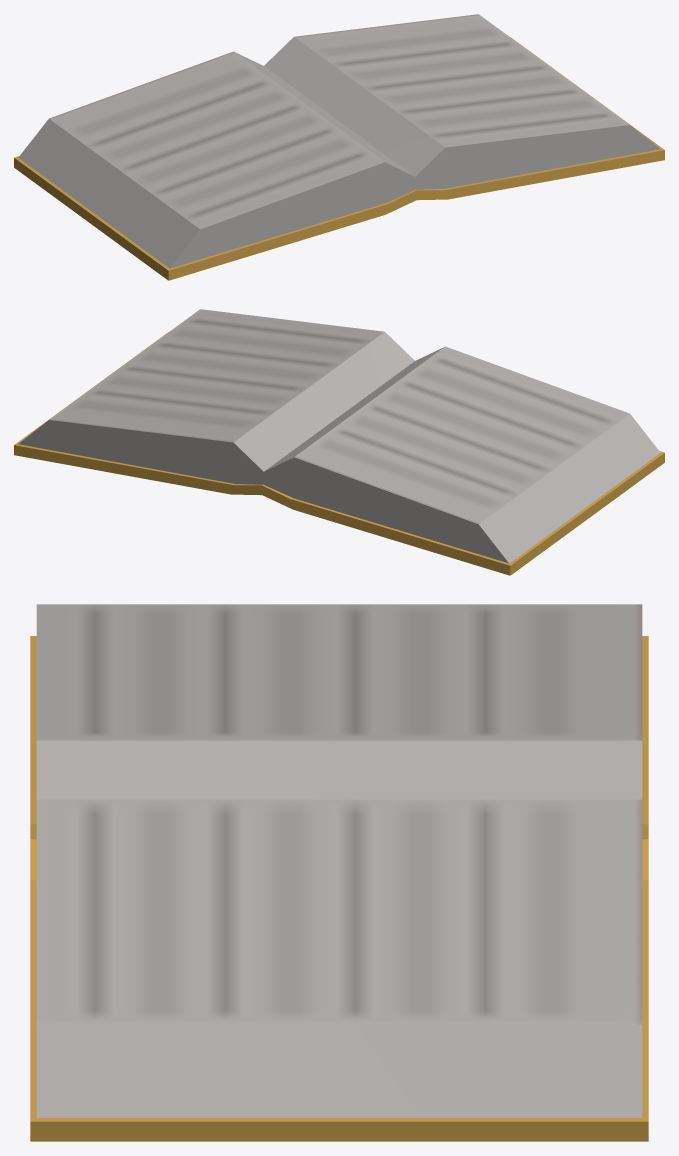
File: SM_Prop_Book_Open_01.fbx
3 views of the same model, one above another, from view 1: azimuth 30°, elevation 25°; view 2: azimuth 150°, elevation 25°; view 3: azimuth 270°, elevation 25° (orthographic). The views are drawn at different scales.
Parts seen in each view (by area): view 1: SM_Prop_Book_Open_01; view 2: SM_Prop_Book_Open_01; view 3: SM_Prop_Book_Open_01.
Part boxes in pixels (left/top/right/bottom): SM_Prop_Book_Open_01: left=14, top=14, right=664, bottom=280; SM_Prop_Book_Open_01: left=14, top=309, right=664, bottom=575; SM_Prop_Book_Open_01: left=30, top=604, right=648, bottom=1141.
Bounding box in the file's own units: 50.14 × 6.24 × 27.04.
